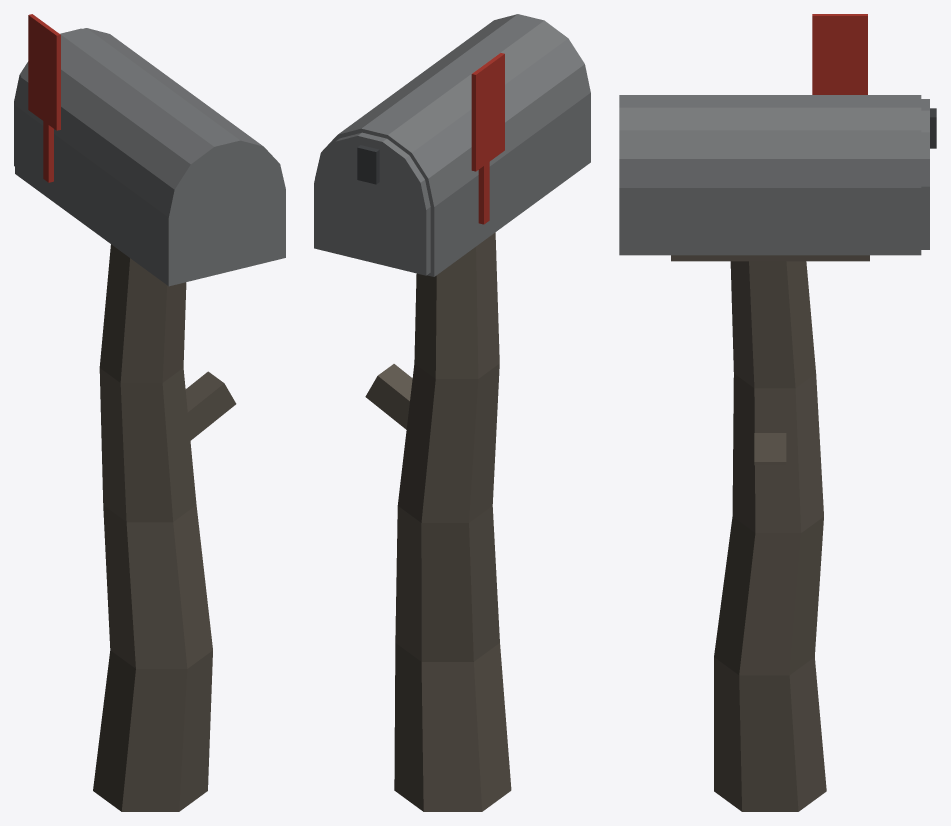
The model's file is mailbox-limb.glb.
3 renders of one model, left to right at view 1: azimuth 30°, elevation 25°; view 2: azimuth 150°, elevation 25°; view 3: azimuth 270°, elevation 25°, orthographic. The views are drawn at different scales.
Visible parts, largest first — view 1: MailboxLimb, Flag; view 2: MailboxLimb, Flag; view 3: MailboxLimb, Flag.
Boxes of the visible parts, x1,y1,x2,y2 form: MailboxLimb: [14, 28, 285, 811]; Flag: [28, 14, 60, 182]; MailboxLimb: [314, 14, 590, 811]; Flag: [471, 53, 504, 224]; MailboxLimb: [619, 95, 936, 811]; Flag: [812, 14, 867, 94].
Bounding box in the file's own units: 0.2566 × 1.24 × 0.478.
